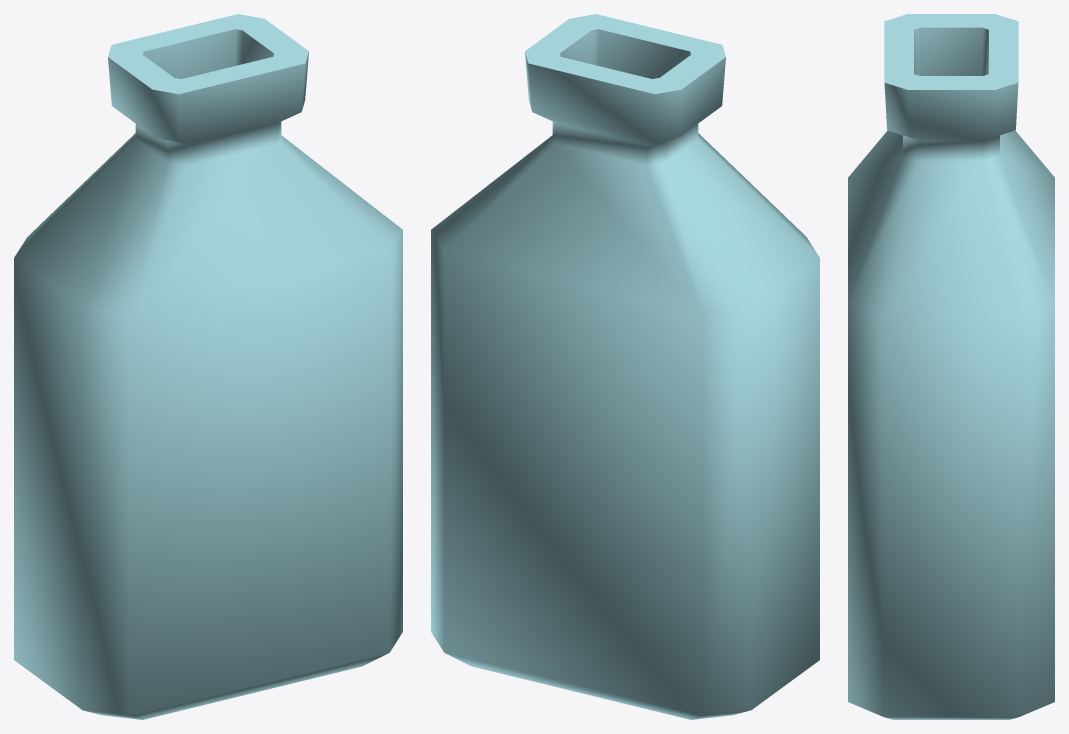
File: PotionBottleFilled6.fbx
3 views of the same model, side by side, from view 1: azimuth 30°, elevation 25°; view 2: azimuth 150°, elevation 25°; view 3: azimuth 270°, elevation 25° (orthographic).
Visible parts, largest first — view 1: PotionBottleFilled6; view 2: PotionBottleFilled6; view 3: PotionBottleFilled6.
Boxes of the visible parts, x1,y1,x2,y2 form: PotionBottleFilled6: (14,14,402,719); PotionBottleFilled6: (431,14,819,719); PotionBottleFilled6: (848,14,1054,719).
Size of the model in its own units: 7.55 by 13.67 by 4.25.
